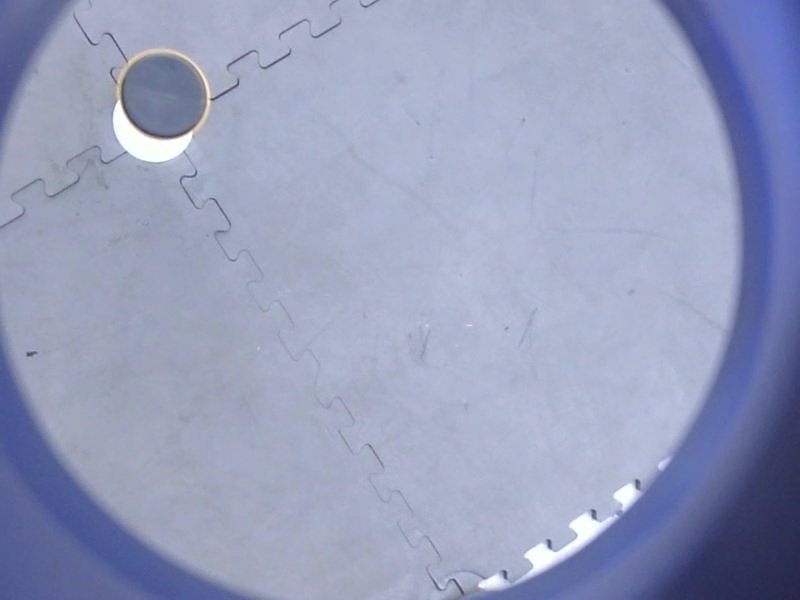tip: (111, 43, 217, 148)
